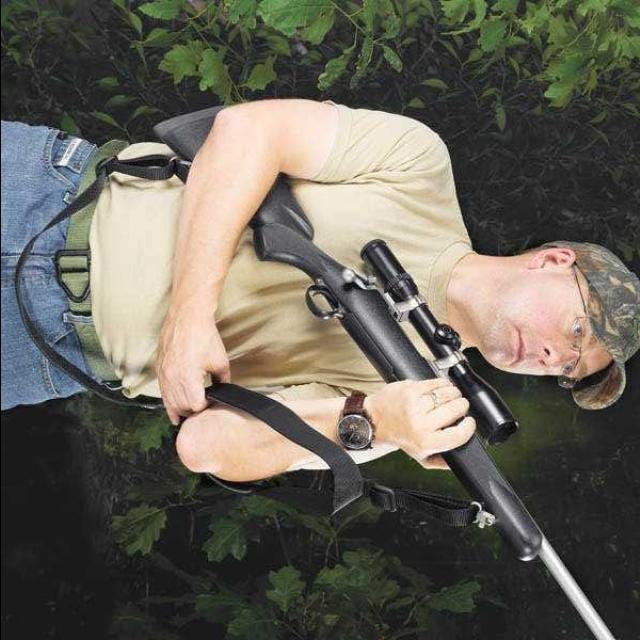heavyweapon: (147, 101, 640, 640)
